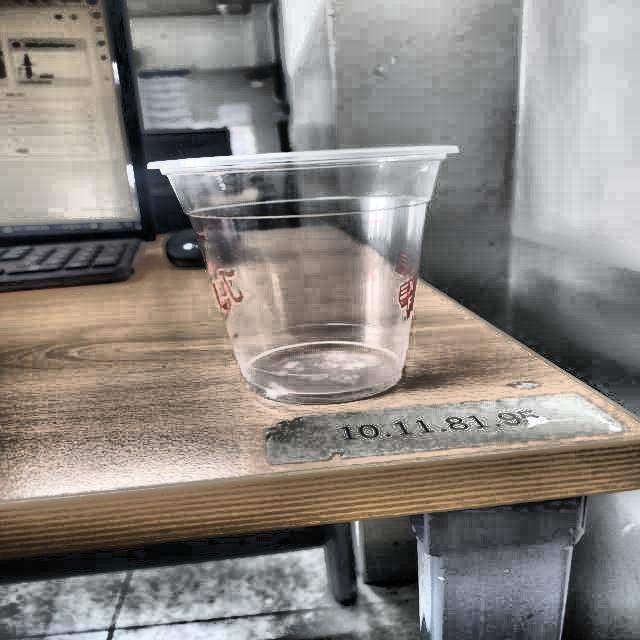plastic cup: (144, 144, 464, 402)
